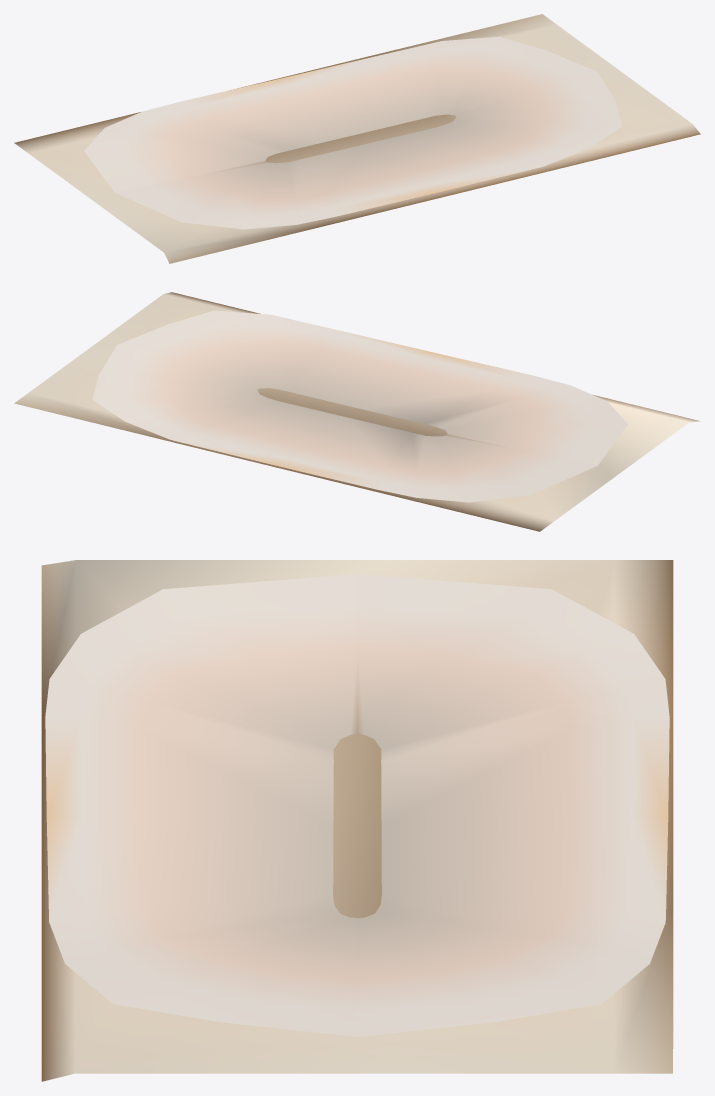
Rendered from Quicksand.fbx.
3 views of the same model, one above another, from view 1: azimuth 30°, elevation 25°; view 2: azimuth 150°, elevation 25°; view 3: azimuth 270°, elevation 25° (orthographic). The views are drawn at different scales.
Parts seen in each view (by area): view 1: Quicksand_01, Ground_03; view 2: Quicksand_01, Ground_03; view 3: Quicksand_01, Ground_03.
Part boxes in pixels (left/top/right/bottom): Quicksand_01: left=84, top=36, right=622, bottom=229; Ground_03: left=14, top=14, right=700, bottom=263; Quicksand_01: left=92, top=310, right=627, bottom=502; Ground_03: left=14, top=292, right=700, bottom=531; Quicksand_01: left=45, top=574, right=669, bottom=1036; Ground_03: left=41, top=560, right=673, bottom=1081.
Bounding box in the file's own units: 3498 × 77 × 1809.
